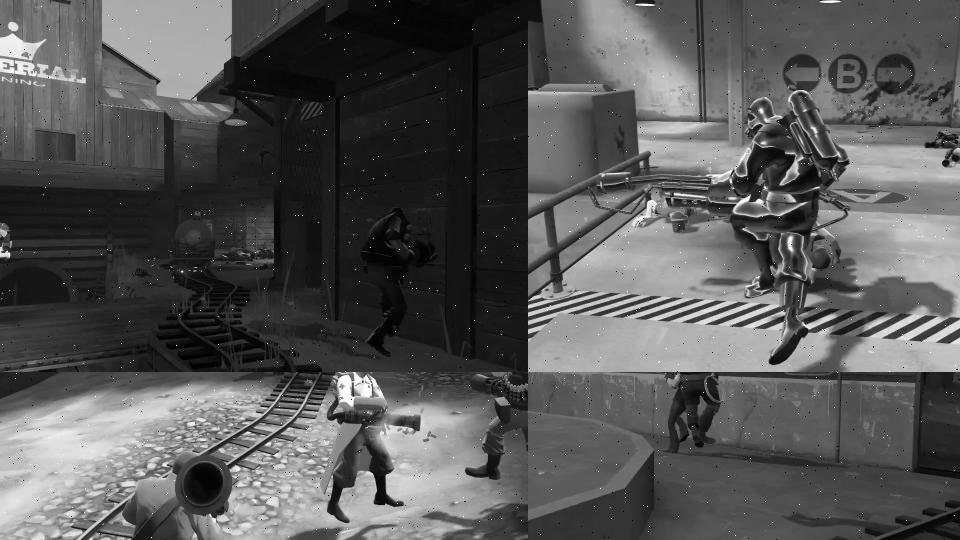Enemy: (587, 83, 852, 366), (319, 372, 421, 523), (359, 205, 439, 357), (110, 449, 233, 540), (463, 372, 528, 480), (639, 372, 689, 453), (679, 372, 731, 448), (632, 199, 708, 232), (805, 221, 842, 284), (0, 221, 13, 312), (931, 129, 960, 148)
